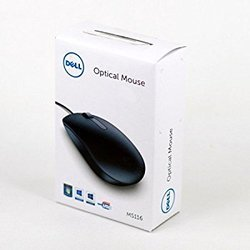dell-mouse-ms116: (48, 96, 148, 183)
